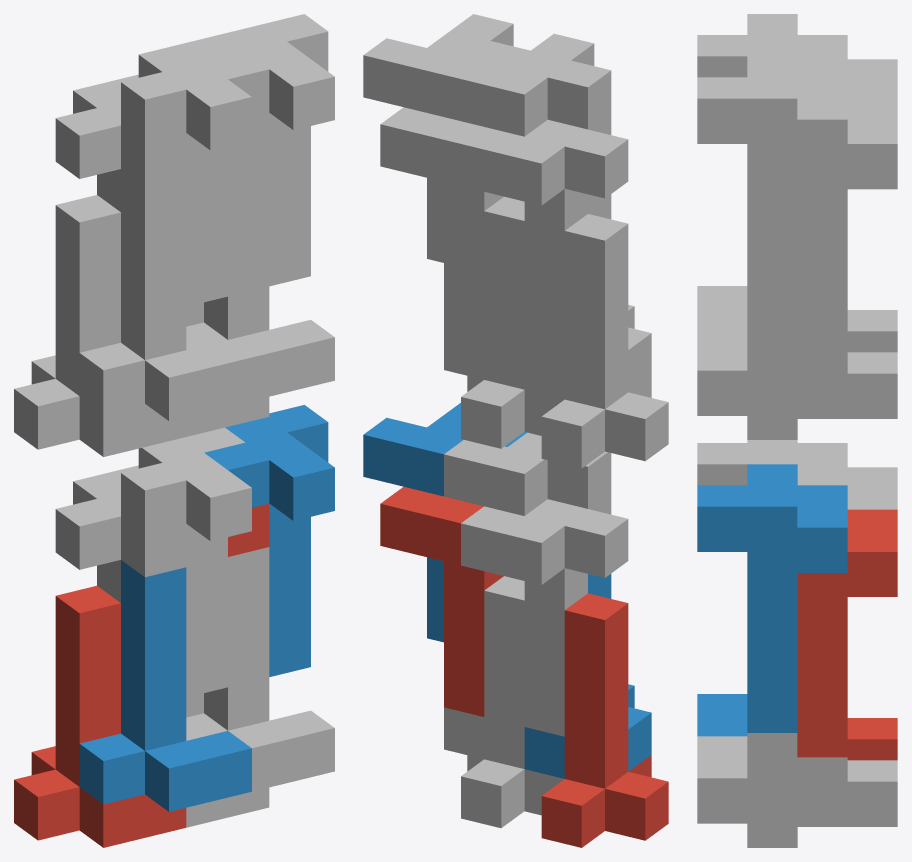
The model's file is tiling.obj.
The picture shows the model from 3 angles, left to right: view 1: azimuth 30°, elevation 25°; view 2: azimuth 150°, elevation 25°; view 3: azimuth 270°, elevation 25°; orthographic projection. The views are drawn at different scales.
Visible parts, largest first — view 1: copy_1_domain_2, copy_1_domain_4, copy_1_domain_3, copy_1_domain_1, copy_2_domain_4, copy_2_domain_2, copy_2_domain_8, copy_2_domain_6, copy_1_domain_8, copy_1_domain_6, copy_2_domain_3, copy_2_domain_1 (+4 smaller); view 2: copy_1_domain_1, copy_1_domain_3, copy_2_domain_3, copy_2_domain_1, copy_1_domain_5, copy_1_domain_7, copy_2_domain_4, copy_2_domain_7, copy_2_domain_5, copy_2_domain_8, copy_2_domain_2, copy_2_domain_6 (+4 smaller); view 3: copy_2_domain_8, copy_2_domain_6, copy_2_domain_7, copy_2_domain_5, copy_1_domain_6, copy_1_domain_8, copy_1_domain_5, copy_1_domain_7, copy_2_domain_4, copy_2_domain_2, copy_2_domain_1, copy_2_domain_3 (+4 smaller).
Boxes of the visible parts, x1,y1,x2,y2 form: copy_1_domain_2: (79,560,251,811); copy_1_domain_4: (79,169,251,420); copy_1_domain_3: (14,195,186,456); copy_1_domain_1: (14,585,186,847); copy_2_domain_4: (121,34,251,306); copy_2_domain_2: (121,427,251,697); copy_2_domain_8: (204,14,334,286); copy_2_domain_6: (204,405,334,676); copy_1_domain_8: (186,156,334,400); copy_1_domain_6: (186,547,334,791); copy_2_domain_3: (55,74,186,211); copy_2_domain_1: (55,465,186,602); copy_1_domain_1: (541,593,668,847); copy_1_domain_3: (541,214,668,468); copy_2_domain_3: (461,113,628,357); copy_2_domain_1: (461,492,628,736); copy_1_domain_5: (461,576,564,827); copy_1_domain_7: (461,196,564,448); copy_2_domain_4: (444,33,611,136); copy_2_domain_7: (380,107,503,337); copy_2_domain_5: (380,486,503,716); copy_2_domain_8: (363,14,530,262); copy_2_domain_2: (444,432,611,515); copy_2_domain_6: (363,403,526,642); copy_2_domain_8: (697,56,847,325); copy_2_domain_6: (697,464,847,732); copy_2_domain_7: (797,101,897,349); copy_2_domain_5: (797,509,897,757); copy_1_domain_6: (697,733,847,823); copy_1_domain_8: (697,325,847,415); copy_1_domain_5: (747,760,897,847); copy_1_domain_7: (747,352,897,439); copy_2_domain_4: (697,14,847,77); copy_2_domain_2: (697,440,847,485); copy_2_domain_1: (847,467,897,509); copy_2_domain_3: (847,59,897,101).
Size of the model in its own units: 7 by 17 by 4.
